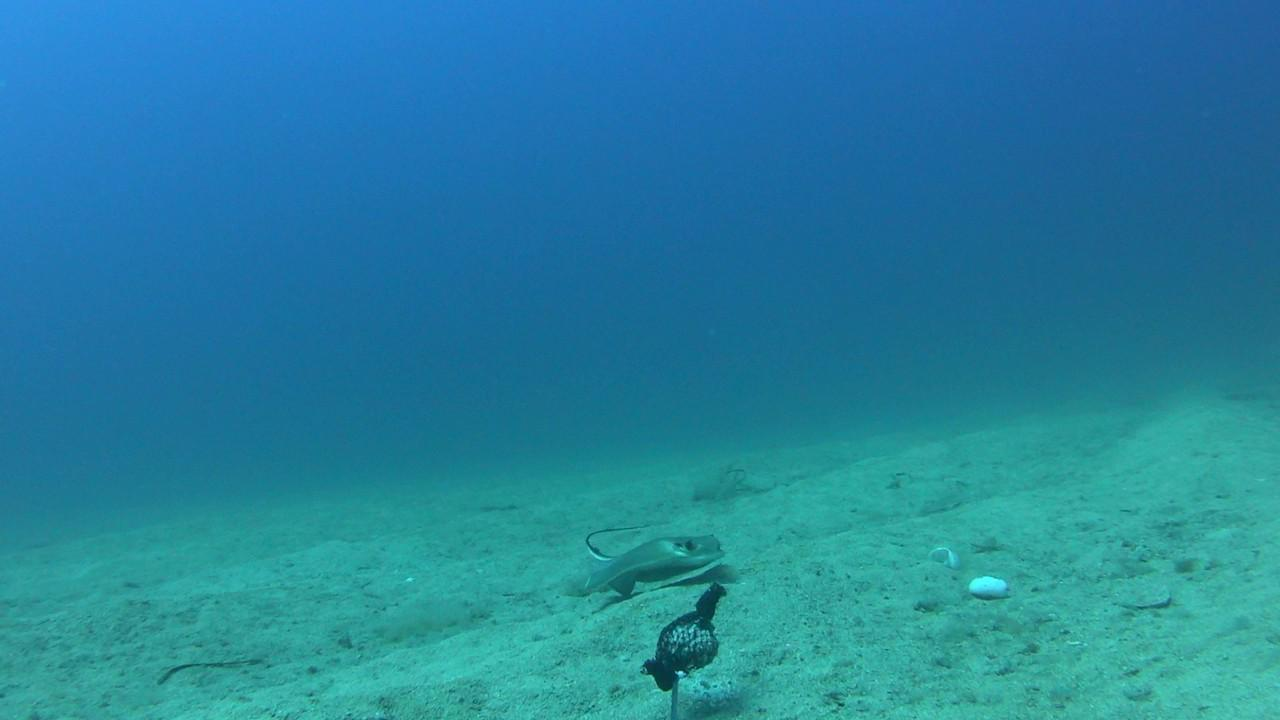myliobatis: (558, 507, 752, 596)
